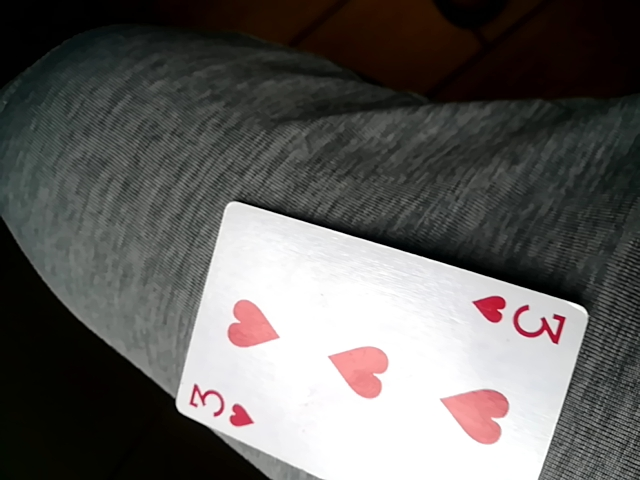hx 3: (175, 198, 590, 476)
